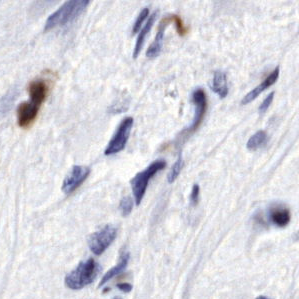Lymphocyte: (17, 83, 46, 128)
